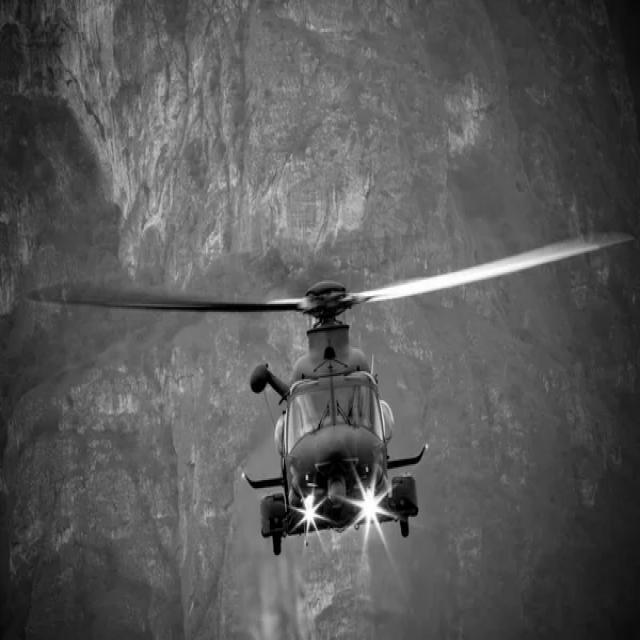Helicopter: (31, 237, 632, 555)
